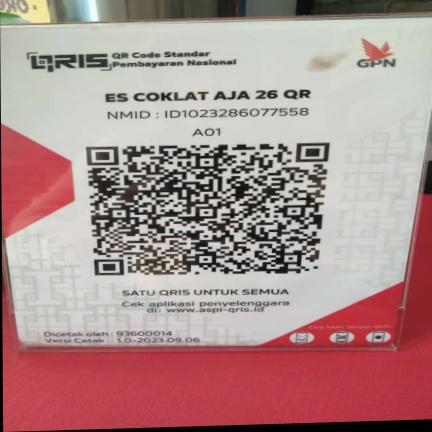Cara Pakai QRIS: (277, 322, 396, 347)
Cek Aplikasi Penyelenggara: (114, 299, 298, 315)
Dicetak Oleh: (42, 329, 175, 338)
Logo GPN: (344, 35, 411, 73)
Logo dan deskripsi QRIS: (20, 43, 244, 76)
Nama Merchant: (100, 85, 322, 105)
National Merchant ID: (100, 104, 321, 124)
QR Code: (78, 140, 337, 280)
Slogan: (115, 286, 298, 299)
Terminal ID: (184, 126, 233, 139)
Versi Cetak: (40, 336, 204, 344)
